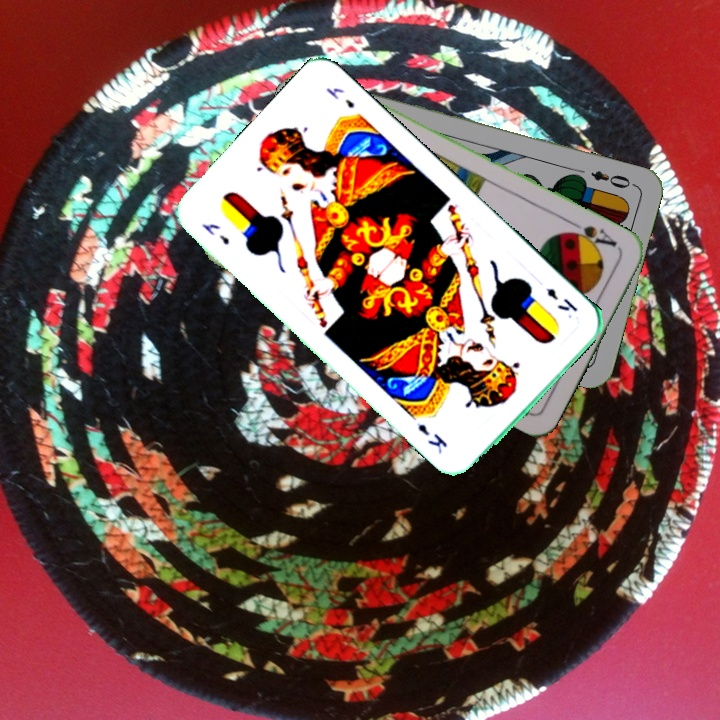EK: (541, 283, 580, 315), (198, 219, 232, 248)
EO: (587, 166, 638, 191)
SA: (563, 217, 620, 253)
